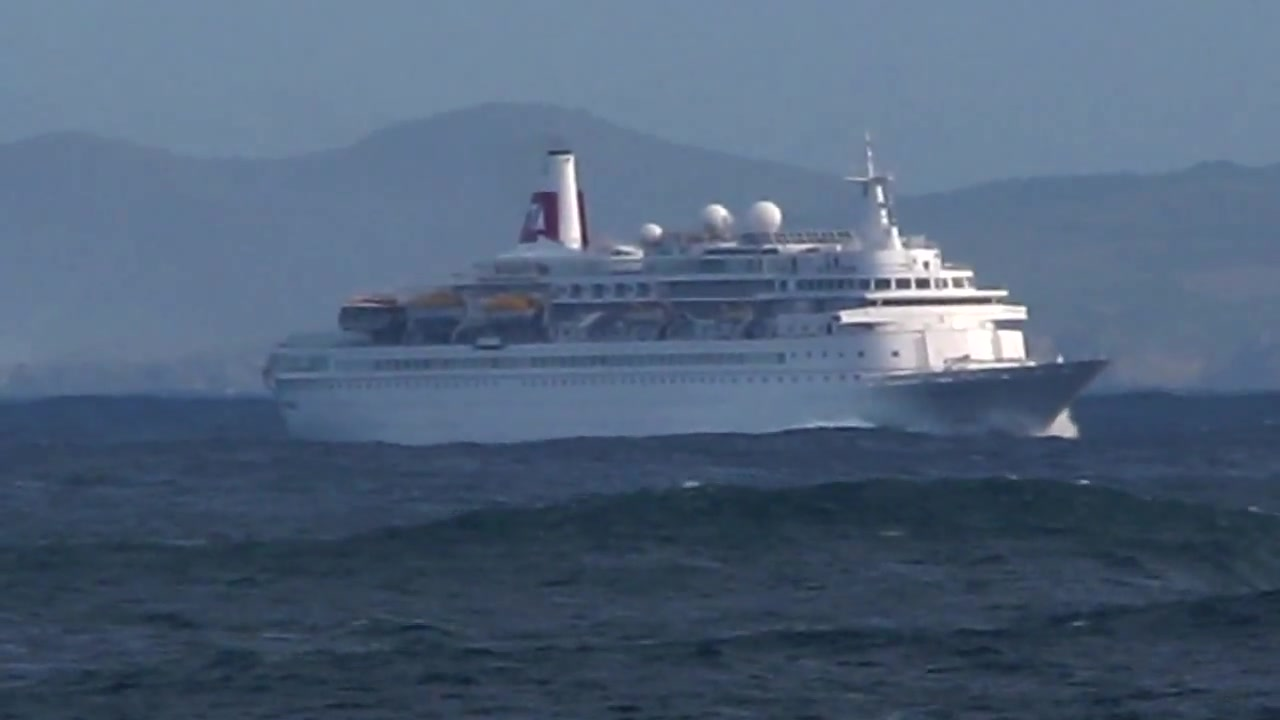boat: (261, 128, 1115, 445)
